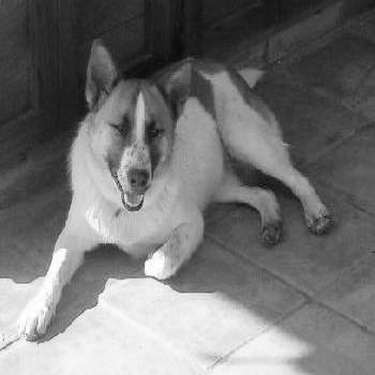dog: (14, 27, 337, 344)
